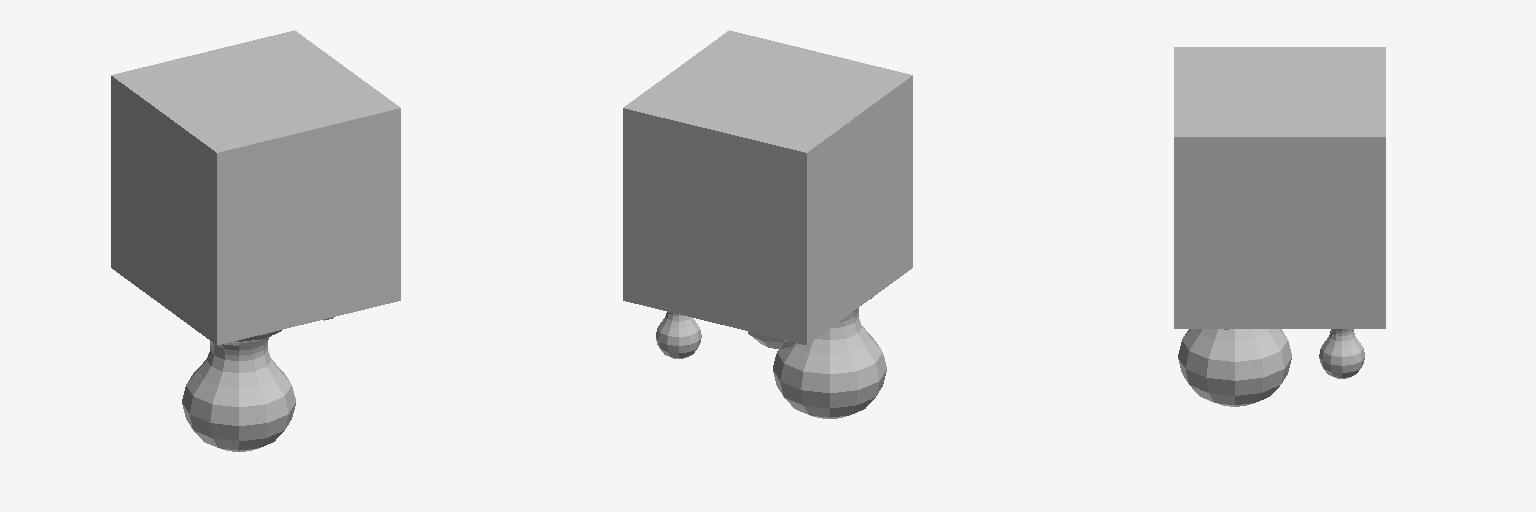
The model's file is drip_3.obj.
3 renders of one model, left to right at view 1: azimuth 30°, elevation 25°; view 2: azimuth 150°, elevation 25°; view 3: azimuth 270°, elevation 25°, orthographic.
Visible parts, largest first — view 1: Cube.001_Cube.000, Sphere.003_Sphere.001; view 2: Cube.001_Cube.000, Sphere.003_Sphere.001, Sphere; view 3: Cube.001_Cube.000, Sphere.003_Sphere.001, Sphere.
Part boxes in pixels (x1,y1,x2,y2): Cube.001_Cube.000: (111, 30, 400, 344); Sphere.003_Sphere.001: (182, 330, 295, 451); Cube.001_Cube.000: (623, 30, 912, 344); Sphere.003_Sphere.001: (773, 298, 886, 418); Sphere: (656, 312, 701, 358); Cube.001_Cube.000: (1174, 47, 1385, 328); Sphere.003_Sphere.001: (1178, 329, 1291, 406); Sphere: (1319, 329, 1364, 378).
Bounding box in the file's own units: 1 × 1.71 × 1.